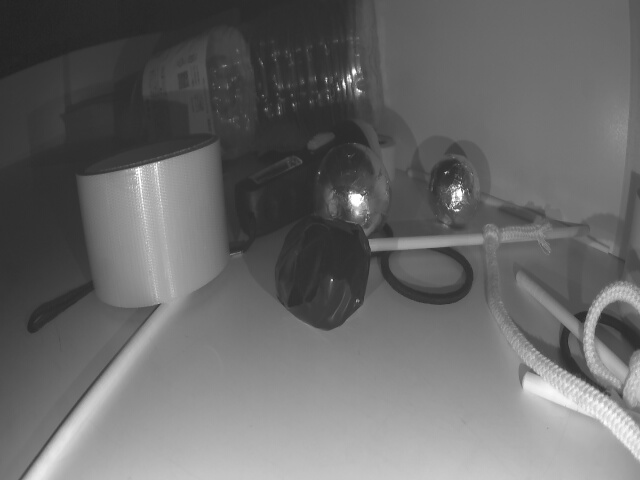Dead: (277, 217, 371, 328)
Live: (316, 145, 389, 232), (428, 156, 477, 228)
